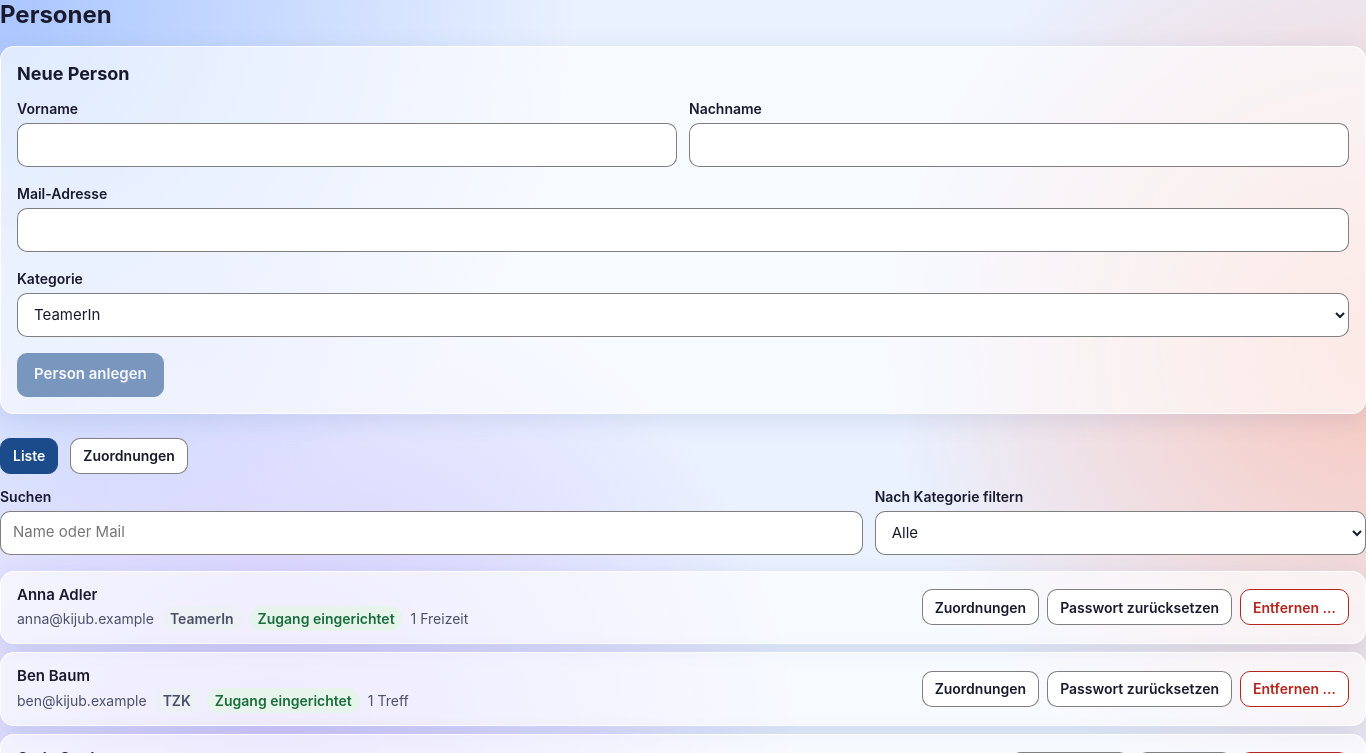
Personen: Tabelle mit Zuordnungen › Spalten: laufende und kommende Freizeiten und alle Treffs; vergangene und deaktivierte erst auf Wunsch
Expected: the text "Anna Adler" is shown, [17, 584, 98, 606]
Click the 1st button "Zuordnungen".
click(129, 456)  # box [70, 438, 188, 474]
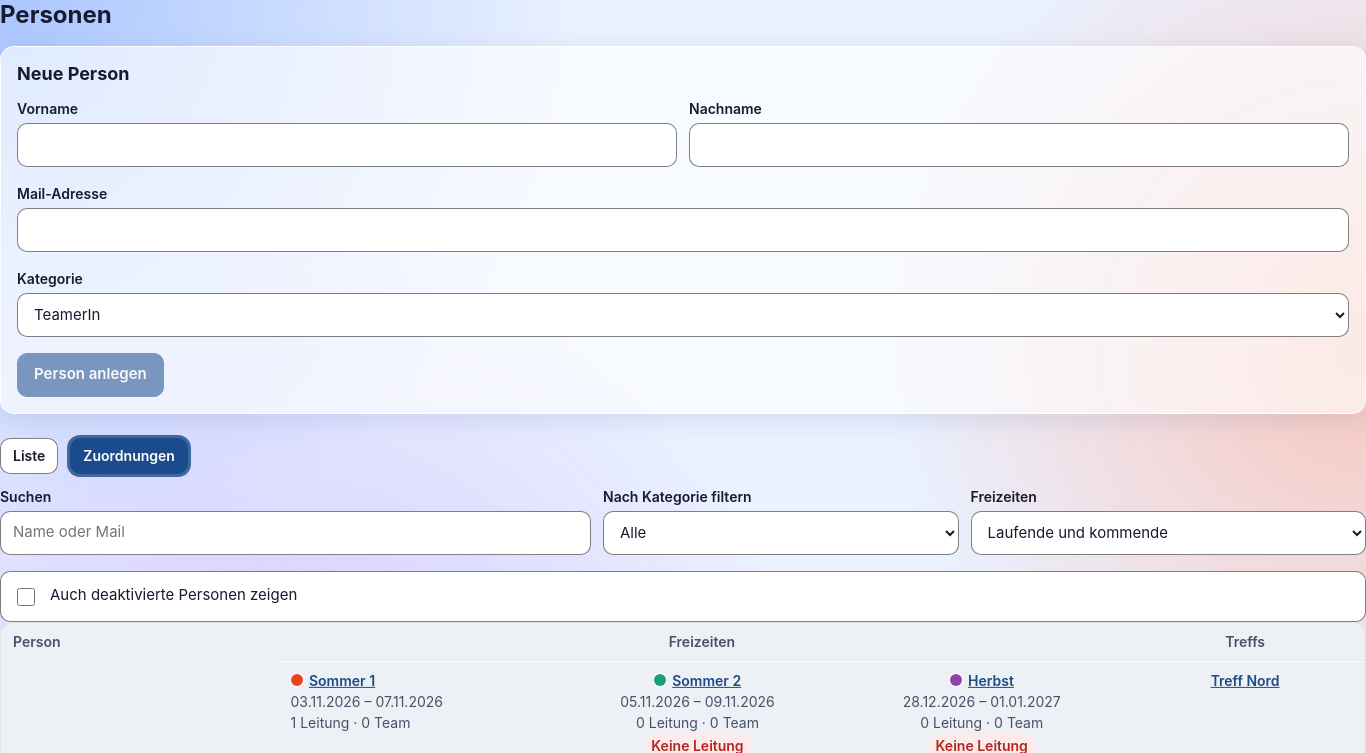
Click the checkbox labelled "Auch deaktivierte Personen zeigen".
click(26, 596)  # box [17, 588, 35, 606]
(page scrolled)
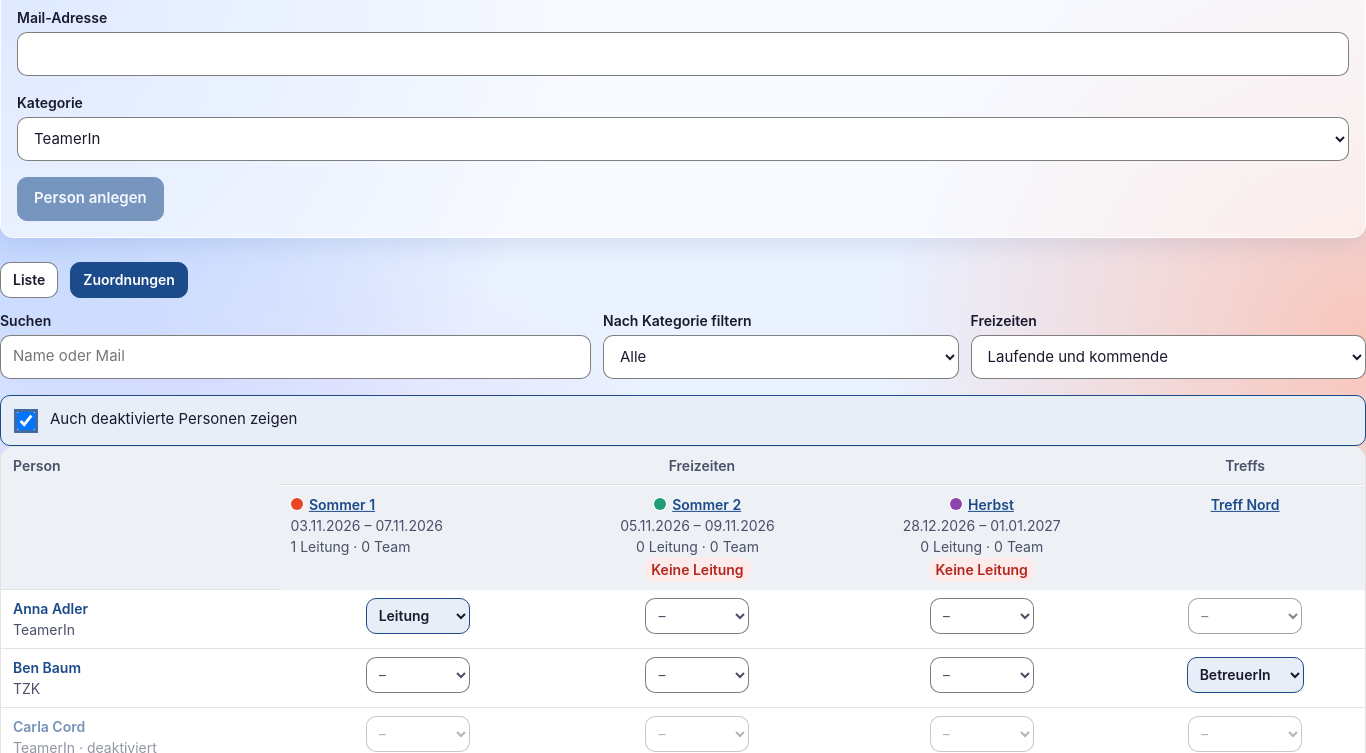
Expected: the button with aria-label "Zuordnungen von Carla Cord" is shown, [13, 716, 85, 736]
